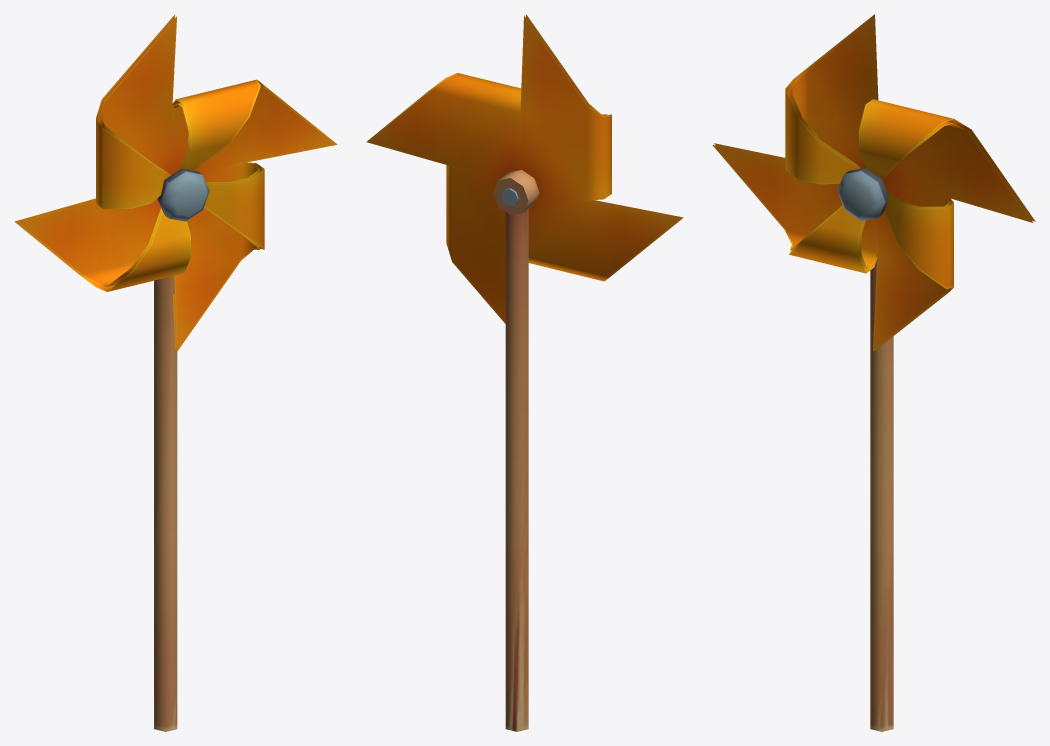
File: SE_Vane_01.fbx
3 views of the same model, side by side, from view 1: azimuth 30°, elevation 25°; view 2: azimuth 150°, elevation 25°; view 3: azimuth 330°, elevation 25° (orthographic).
Parts seen in each view (by area): view 1: SE_Vane_01; view 2: SE_Vane_01; view 3: SE_Vane_01.
Part boxes in pixels (x1,y1,x2,y2): SE_Vane_01: (14,14,337,731); SE_Vane_01: (366,14,683,731); SE_Vane_01: (712,14,1035,731).
Size of the model in its own units: 2.08 by 4.43 by 0.3684.
